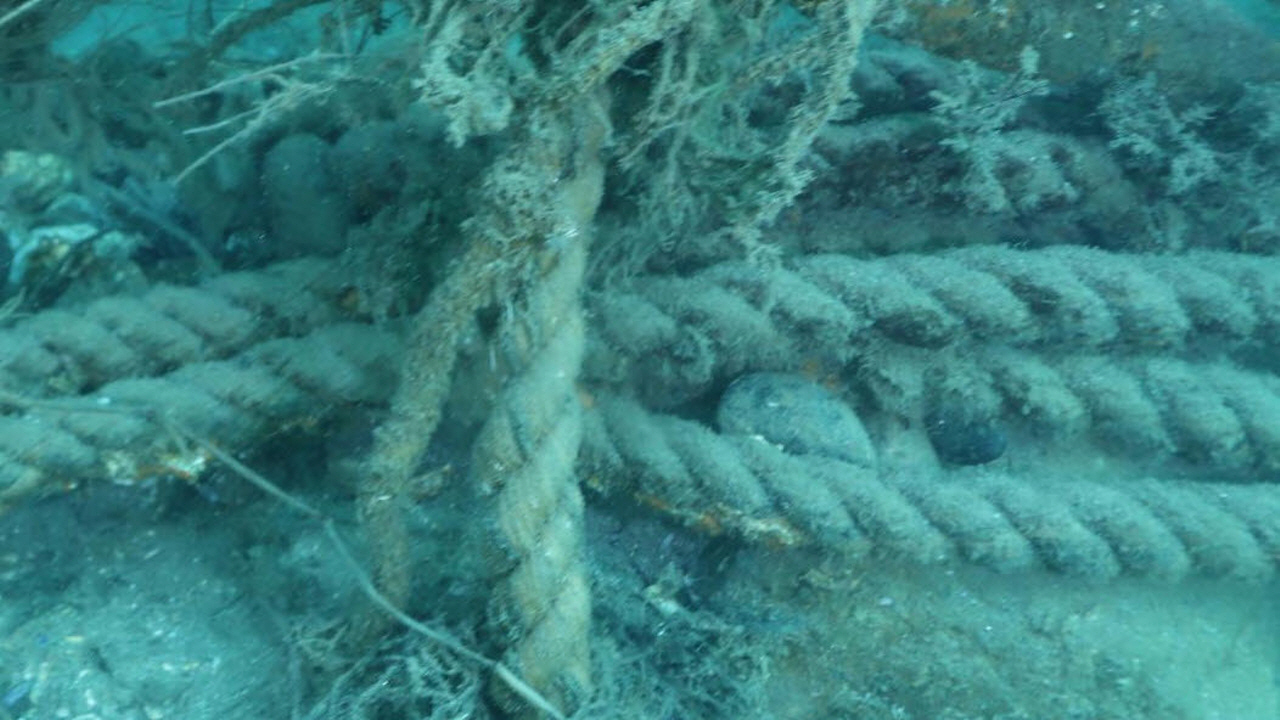bundle of ropes: (0, 240, 1278, 584), (359, 0, 884, 720)
